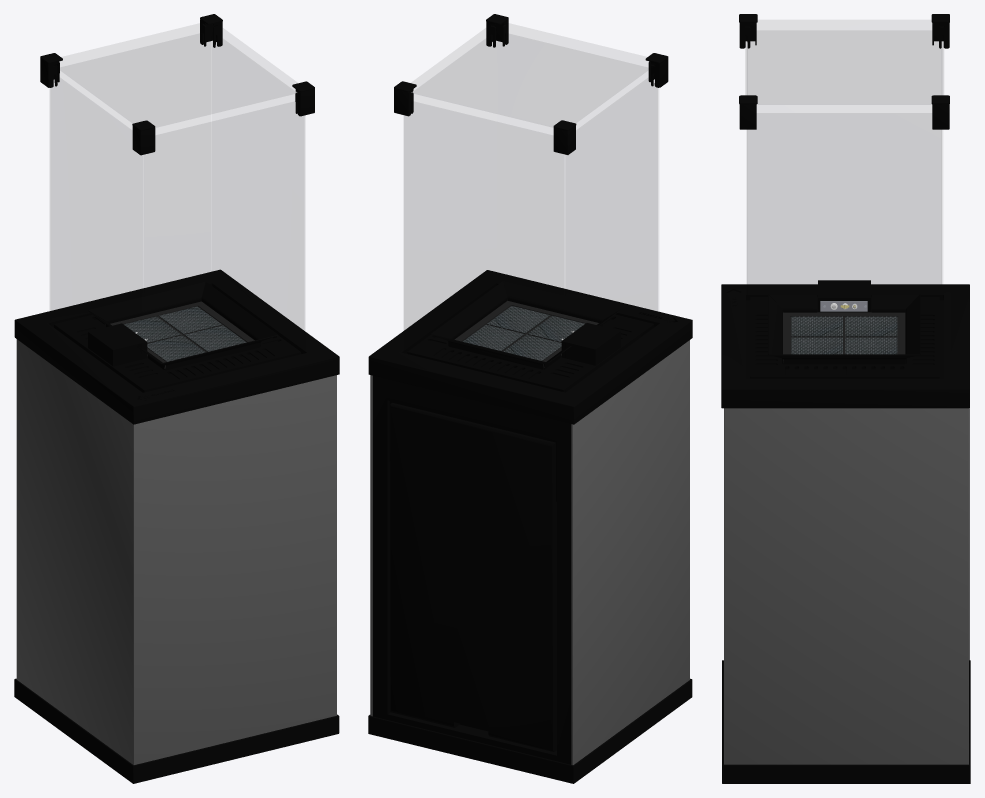
The model's file is patio.glb.
The picture shows the model from 3 angles, left to right: view 1: azimuth 30°, elevation 25°; view 2: azimuth 150°, elevation 25°; view 3: azimuth 270°, elevation 25°; orthographic projection. The views are drawn at different scales.
Visible parts, largest first — view 1: белый_низ_1, стекло_1, черн, решетка_черн_с_текст 1, решетка_черн_с_текст; view 2: черн, стекло_1, белый_низ_1, решетка_черн_с_текст 1, решетка_черн_с_текст; view 3: белый_низ_1, стекло_1, черн, решетка_черн_с_текст 1, решетка_черн_с_текст.
Boxes of the visible parts, bbox=[...] form: белый_низ_1: bbox=[16, 339, 336, 764]; стекло_1: bbox=[50, 31, 304, 352]; черн: bbox=[14, 14, 339, 783]; решетка_черн_с_текст 1: bbox=[124, 306, 246, 361]; решетка_черн_с_текст: bbox=[110, 301, 254, 368]; черн: bbox=[368, 14, 692, 783]; стекло_1: bbox=[404, 31, 657, 352]; белый_низ_1: bbox=[370, 340, 689, 764]; решетка_черн_с_текст 1: bbox=[463, 306, 584, 360]; решетка_черн_с_текст: bbox=[454, 301, 598, 367]; белый_низ_1: bbox=[724, 408, 968, 764]; стекло_1: bbox=[746, 30, 942, 377]; черн: bbox=[721, 14, 970, 783]; решетка_черн_с_текст 1: bbox=[791, 316, 897, 354]; решетка_черн_с_текст: bbox=[783, 312, 905, 362].
Size of the model in its own units: 0.4 by 1.21 by 0.4012.
Materials: 14 (1 with a texture image).
